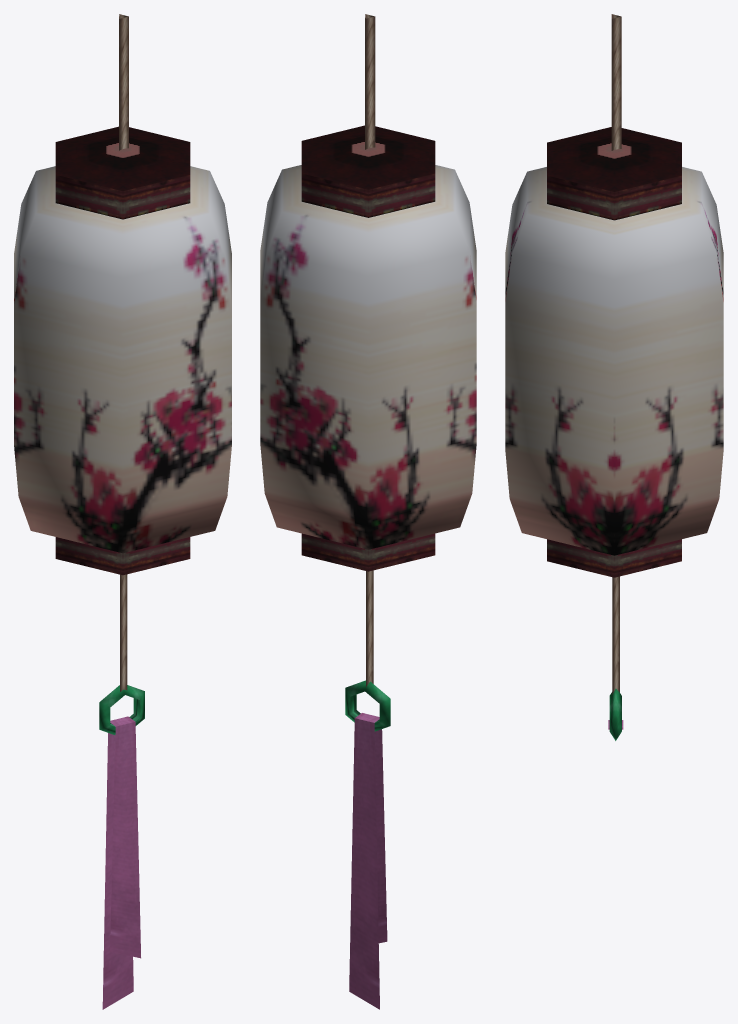
The model's file is Scene_Build_HuanYinFang_DengLong_1.FBX.
3 views of the same model, side by side, from view 1: azimuth 30°, elevation 25°; view 2: azimuth 150°, elevation 25°; view 3: azimuth 270°, elevation 25° (orthographic).
Parts seen in each view (by area): view 1: Scene_Build_HuanYinFang_DengLong_1b, Scene_Build_HuanYinFang_DengLong_1a, Scene_Build_HuanYinFang_DengLong_1c; view 2: Scene_Build_HuanYinFang_DengLong_1b, Scene_Build_HuanYinFang_DengLong_1a, Scene_Build_HuanYinFang_DengLong_1c; view 3: Scene_Build_HuanYinFang_DengLong_1b, Scene_Build_HuanYinFang_DengLong_1a, Scene_Build_HuanYinFang_DengLong_1c.
Boxes of the visible parts, x1=… form: Scene_Build_HuanYinFang_DengLong_1b: x1=14, y1=126, x2=231, y2=1009; Scene_Build_HuanYinFang_DengLong_1a: x1=119, y1=14, x2=128, y2=691; Scene_Build_HuanYinFang_DengLong_1c: x1=99, y1=685, x2=144, y2=734; Scene_Build_HuanYinFang_DengLong_1b: x1=260, y1=125, x2=476, y2=1009; Scene_Build_HuanYinFang_DengLong_1a: x1=365, y1=14, x2=375, y2=686; Scene_Build_HuanYinFang_DengLong_1c: x1=345, y1=680, x2=390, y2=731; Scene_Build_HuanYinFang_DengLong_1b: x1=505, y1=127, x2=723, y2=729; Scene_Build_HuanYinFang_DengLong_1a: x1=611, y1=14, x2=621, y2=694; Scene_Build_HuanYinFang_DengLong_1c: x1=609, y1=688, x2=621, y2=740.
Bounding box in the file's own units: 103 × 450 × 89.36.
